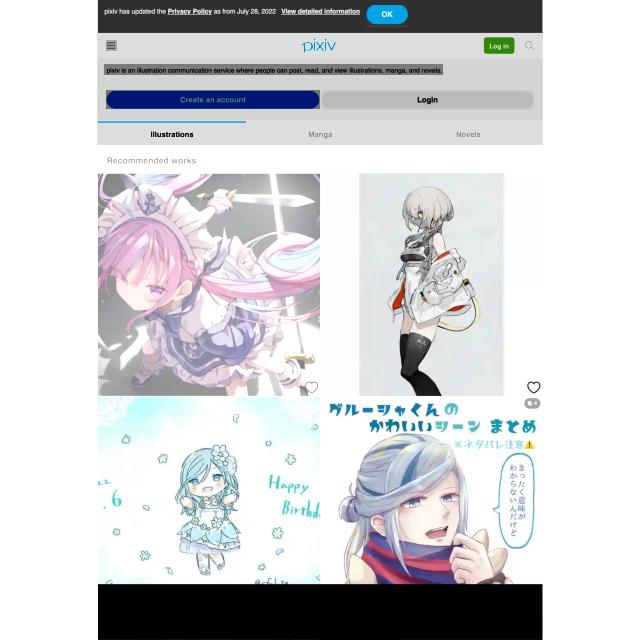CheckBox: (321, 90, 534, 110), (106, 90, 320, 109), (366, 5, 409, 28), (484, 36, 516, 54)
Input field: (104, 64, 443, 75)
bag: (97, 32, 543, 145)
breadcrumbs: (104, 152, 199, 169)
carousel: (524, 39, 536, 53)
copy: (97, 172, 321, 397), (359, 173, 505, 396)
date picker: (297, 39, 339, 55)
decoration: (106, 40, 117, 51)
icon: (96, 120, 542, 144)
image: (97, 0, 543, 32)
